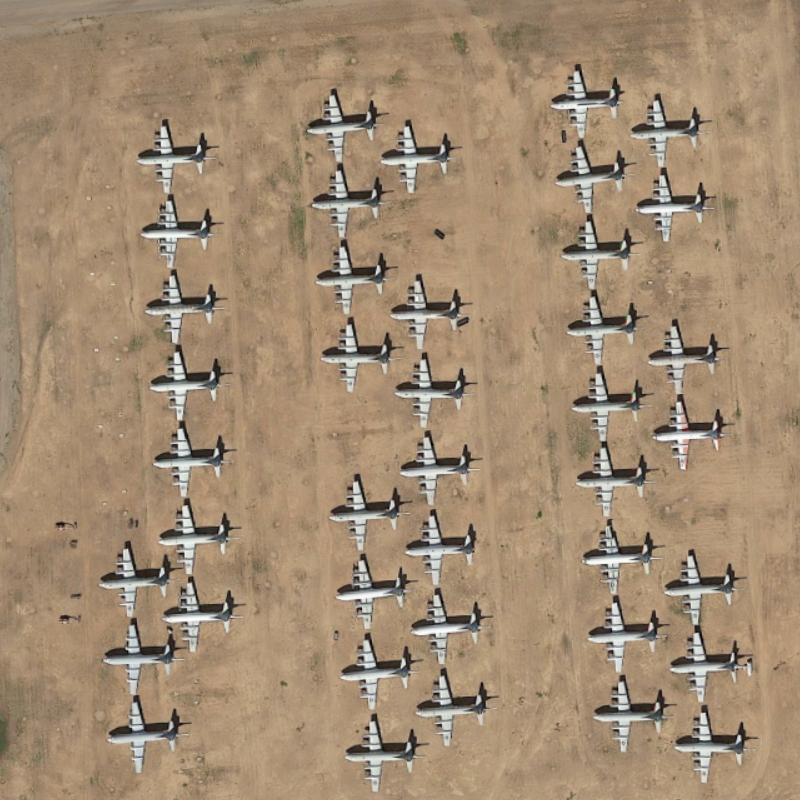A9: (645, 312, 733, 404), (408, 667, 499, 754), (626, 80, 709, 174), (105, 691, 193, 778), (587, 670, 671, 761), (152, 494, 237, 581), (322, 469, 407, 556), (336, 716, 428, 796), (391, 432, 484, 511), (666, 628, 760, 706), (664, 544, 747, 632), (126, 116, 219, 194), (386, 269, 469, 355), (649, 391, 731, 477), (672, 705, 754, 791), (157, 578, 244, 659), (634, 166, 721, 247), (546, 60, 629, 144), (404, 589, 494, 666), (401, 505, 485, 587), (565, 366, 649, 448), (578, 594, 663, 675), (376, 116, 457, 200), (145, 422, 230, 502), (573, 442, 660, 520), (140, 345, 228, 422), (304, 84, 385, 167), (556, 211, 637, 294), (94, 615, 173, 700), (335, 633, 422, 710), (316, 314, 393, 398), (141, 266, 222, 345), (392, 352, 471, 432), (330, 553, 409, 633), (563, 288, 643, 367), (581, 518, 662, 595), (95, 540, 171, 622), (554, 137, 632, 216), (138, 194, 222, 266), (310, 243, 387, 318), (309, 167, 387, 240)
